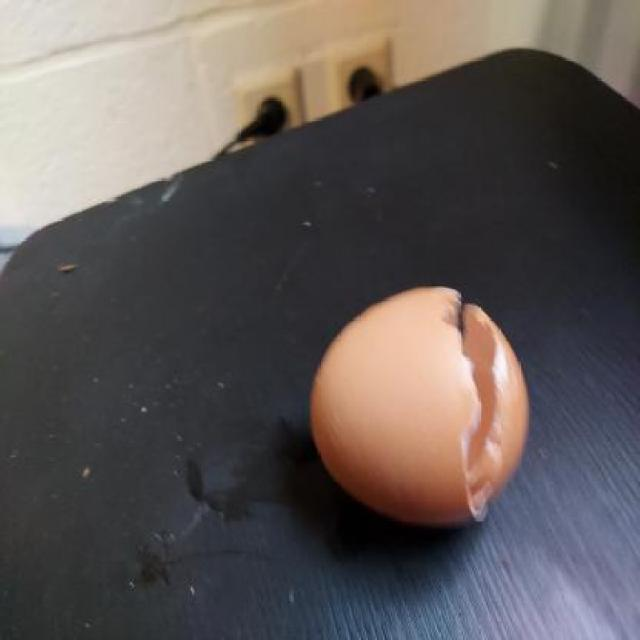biodegradable: (310, 284, 532, 534)
